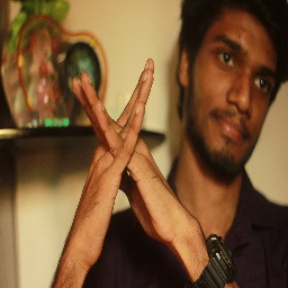W: (58, 51, 192, 258)
